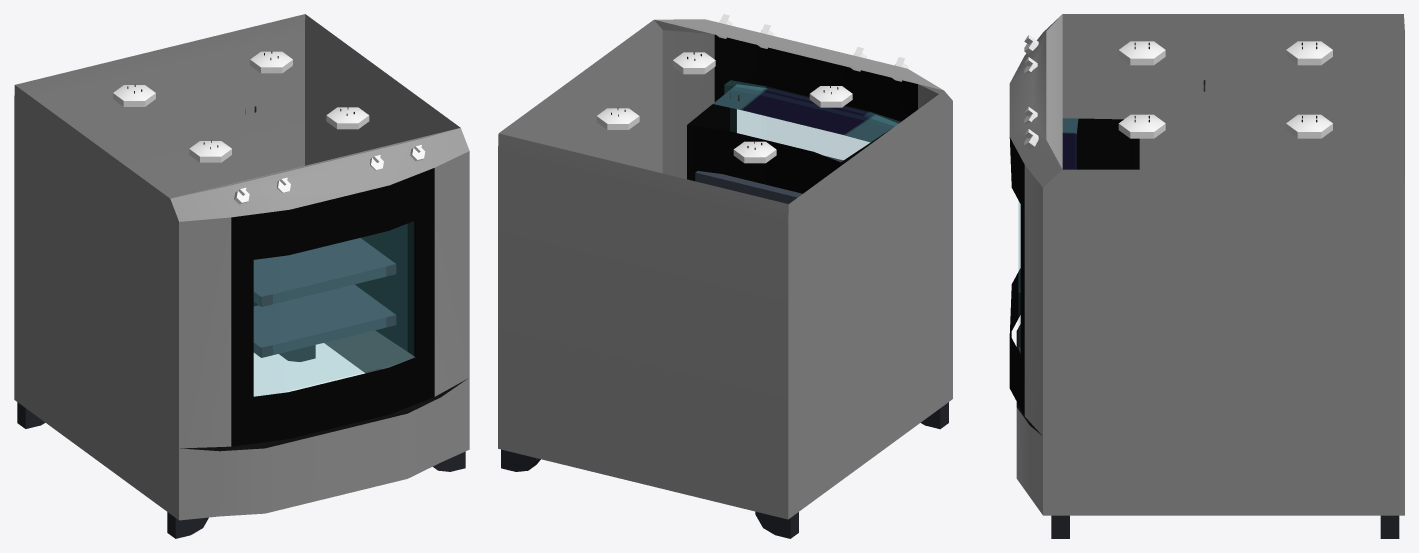
Rendered from Fogao.fbx.
The picture shows the model from 3 angles, left to right: view 1: azimuth 30°, elevation 25°; view 2: azimuth 150°, elevation 25°; view 3: azimuth 270°, elevation 25°; orthographic projection. The views are drawn at different scales.
Parts seen in each view (by area): view 1: Fogao_Medio, FogaoVidro; view 2: Fogao_Medio, FogaoVidro; view 3: Fogao_Medio.
Boxes of the visible parts, x1,y1,x2,y2 form: Fogao_Medio: (14,14,469,538); FogaoVidro: (254,222,414,396); Fogao_Medio: (498,14,952,538); FogaoVidro: (724,80,899,159); Fogao_Medio: (1009,14,1404,538).
Bounding box in the file's own units: 78.11 × 94.08 × 89.94.
Materials: 2 (1 with a texture image).
